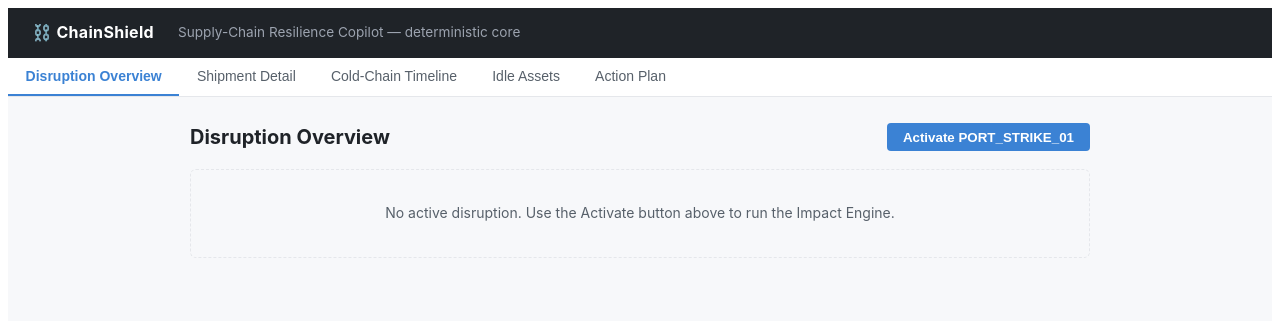
Test: Task 12 — End-to-End Frontend Flow Verification › navigates through all screens seamlessly
Expected: the heading "Disruption Overview" is shown, [190,121,390,153]
Note: Screen 2: Shipment Detail
Click the button "Shipment Detail".
click(246, 77)  # box [179,58,313,96]
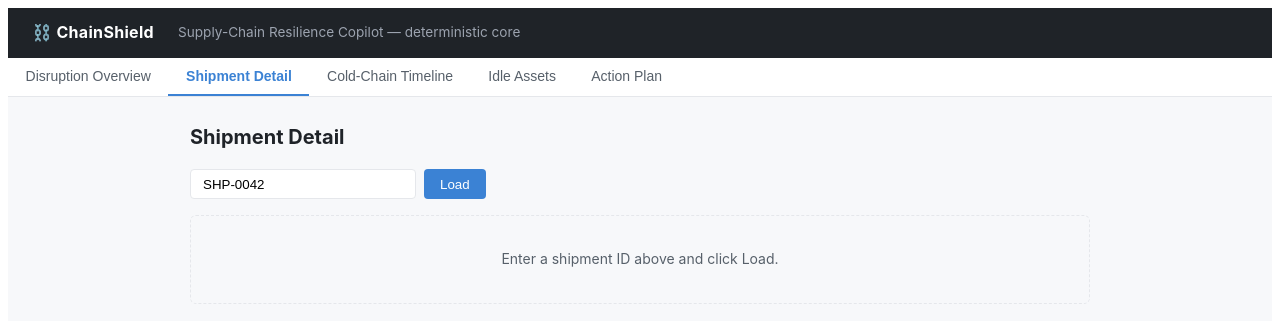
Now the heading "Shipment Detail" is shown, box [190,125,344,149]
Note: Screen 3: Cold-Chain Timeline
Click the button "Cold-Chain Timeline".
click(390, 77)  # box [309,58,471,96]
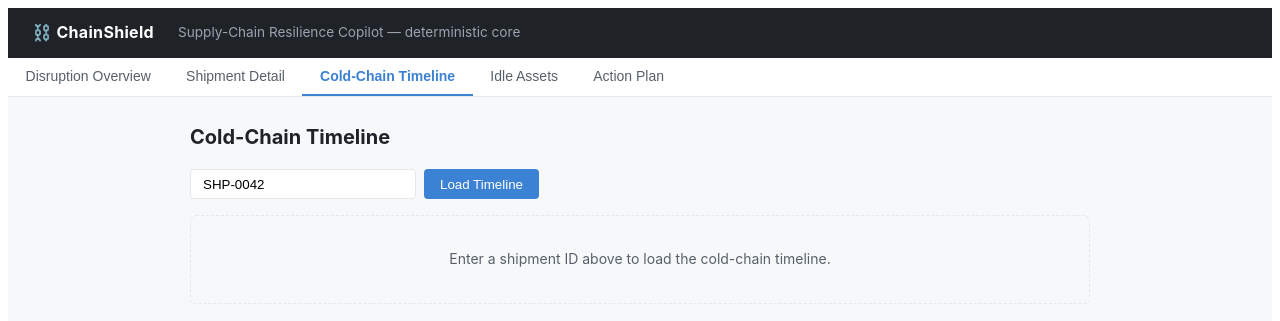
Now the heading "Cold-Chain Timeline" is shown, box [190,125,390,149]
Note: Screen 4: Idle Assets
Click the button "Idle Assets".
click(524, 77)  # box [473,58,576,96]
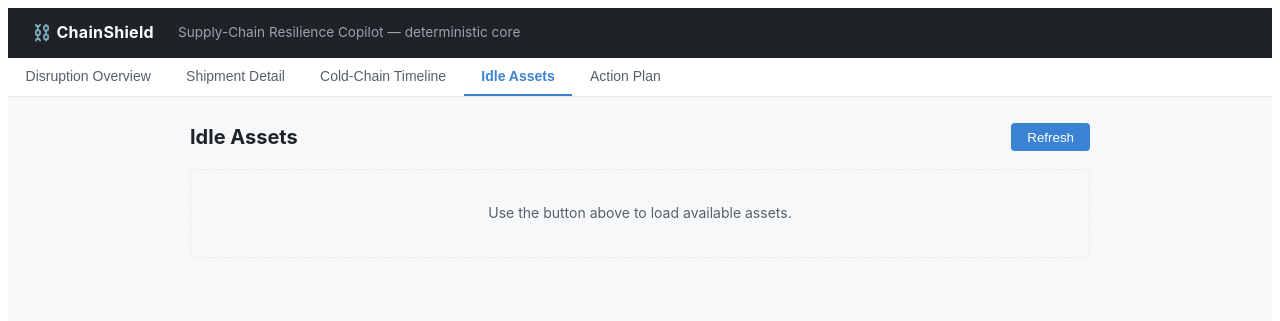
Now the heading "Idle Assets" is shown, box [190,121,298,153]
Note: Screen 5: Action Plan
Click the button "Action Plan".
click(625, 77)  # box [572,58,678,96]
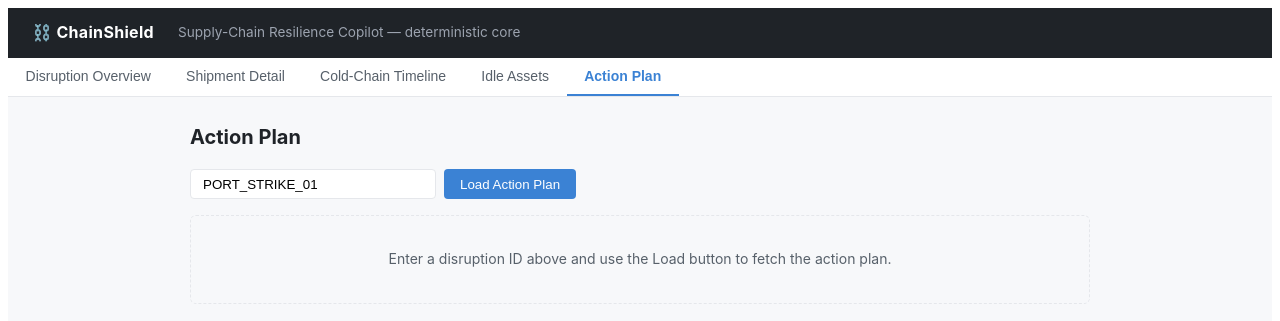
Now the heading "Action Plan" is shown, box [190,125,301,149]
